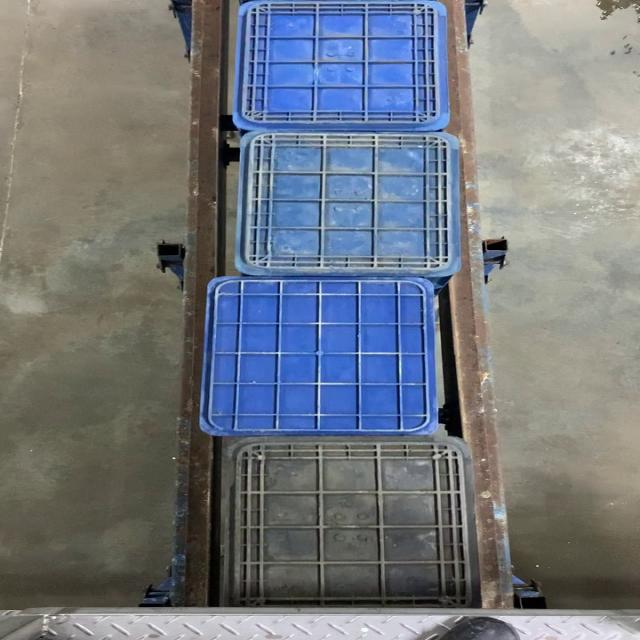Box: (226, 436, 468, 608), (200, 276, 442, 434), (234, 128, 460, 274), (235, 0, 455, 130)
